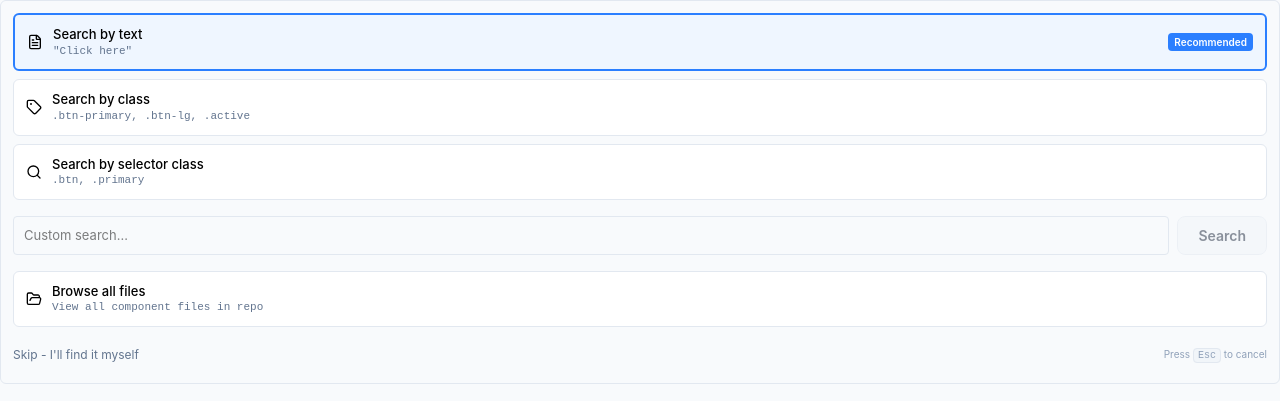
findings/apply-fix/FileFinder › shows error when no files found
The width and height of the screenshot is (1280, 401).
Click the text "Search by text".
click(98, 34)  # box [53,26,142,42]
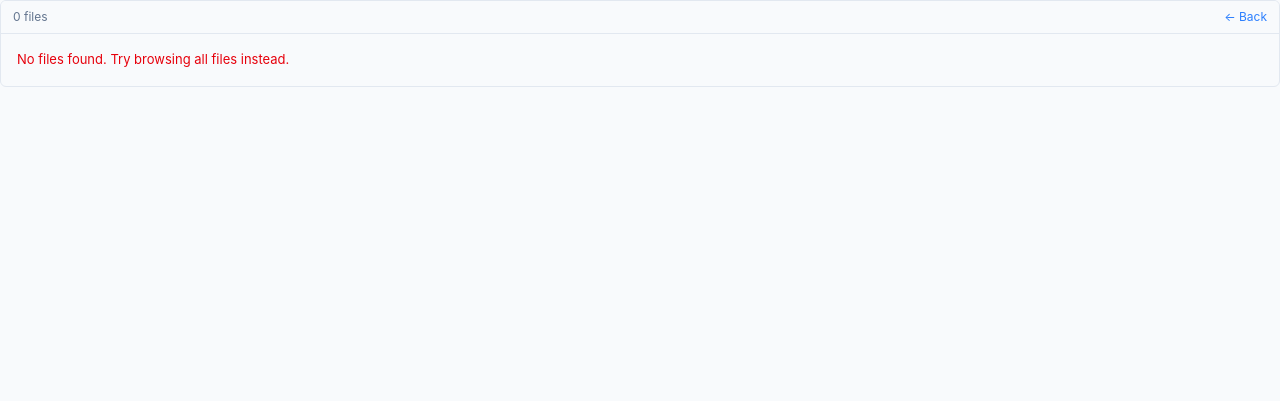
Check: the text "No files found. Try browsing all files instead." is shown, box [17,51,289,67]
